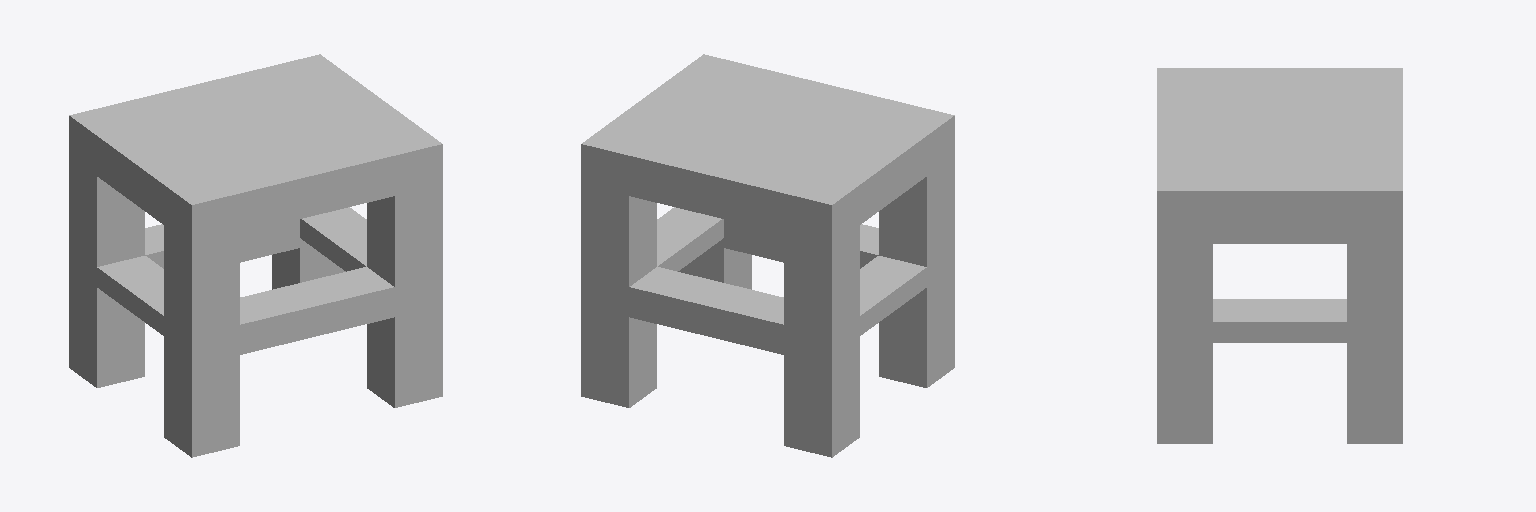
Rendered from chair2.obj.
3 views of the same model, side by side, from view 1: azimuth 30°, elevation 25°; view 2: azimuth 150°, elevation 25°; view 3: azimuth 270°, elevation 25° (orthographic).
Parts seen in each view (by area): view 1: object 1; view 2: object 1; view 3: object 1.
Part boxes in pixels (left/top/right/bottom): object 1: left=69, top=54, right=442, bottom=457; object 1: left=581, top=54, right=954, bottom=457; object 1: left=1157, top=68, right=1402, bottom=443.
Bounding box in the file's own units: 2.6 × 2.5 × 2.2.